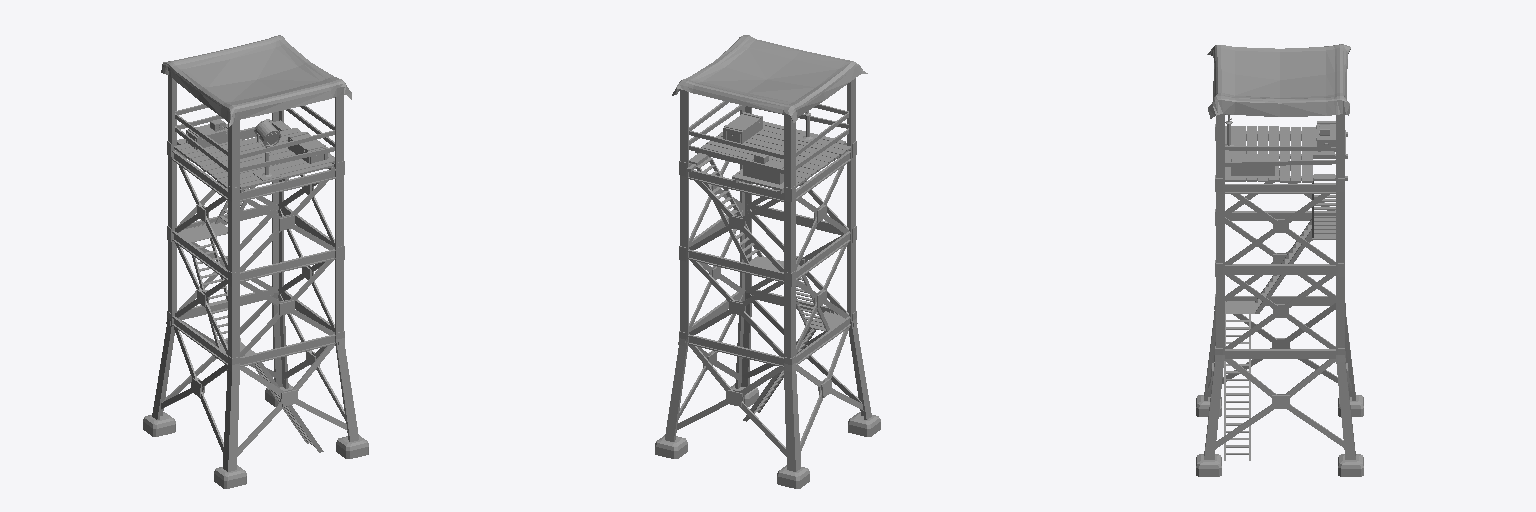
The model's file is watch_tower0.obj.
3 renders of one model, left to right at view 1: azimuth 30°, elevation 25°; view 2: azimuth 150°, elevation 25°; view 3: azimuth 270°, elevation 25°, orthographic.
Visible parts, largest first — view 1: board_16_Untitled.072; view 2: board_16_Untitled.072; view 3: board_16_Untitled.072.
Boxes of the visible parts, <box> form: board_16_Untitled.072: <box>143,35,368,488</box>; board_16_Untitled.072: <box>655,35,880,488</box>; board_16_Untitled.072: <box>1196,44,1363,476</box>.
Bounding box in the file's own units: 5.18 × 12.61 × 5.18.